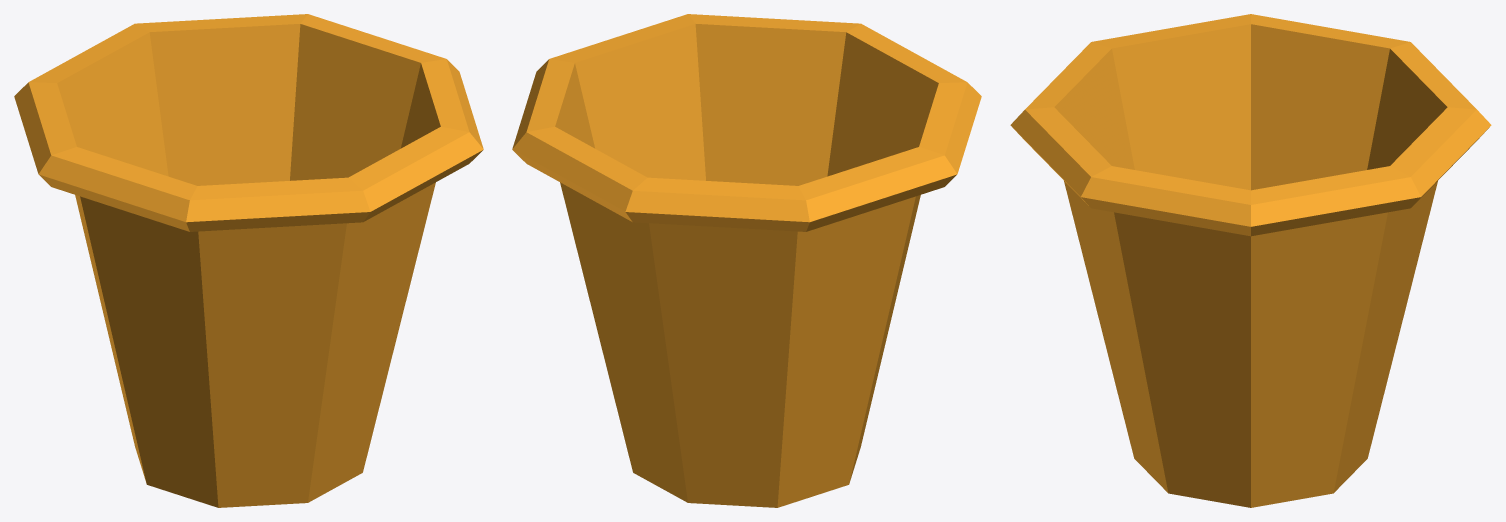
The model's file is SM_Pot_Clay_Medium_B.fbx.
The picture shows the model from 3 angles, left to right: view 1: azimuth 30°, elevation 25°; view 2: azimuth 150°, elevation 25°; view 3: azimuth 270°, elevation 25°; orthographic projection.
Parts seen in each view (by area): view 1: pot-clay-medium-b; view 2: pot-clay-medium-b; view 3: pot-clay-medium-b.
Boxes of the visible parts, x1,y1,x2,y2 form: pot-clay-medium-b: (14,14,483,507); pot-clay-medium-b: (512,14,981,507); pot-clay-medium-b: (1010,14,1491,507).
Bounding box in the file's own units: 0.2237 × 0.1809 × 0.2237.
